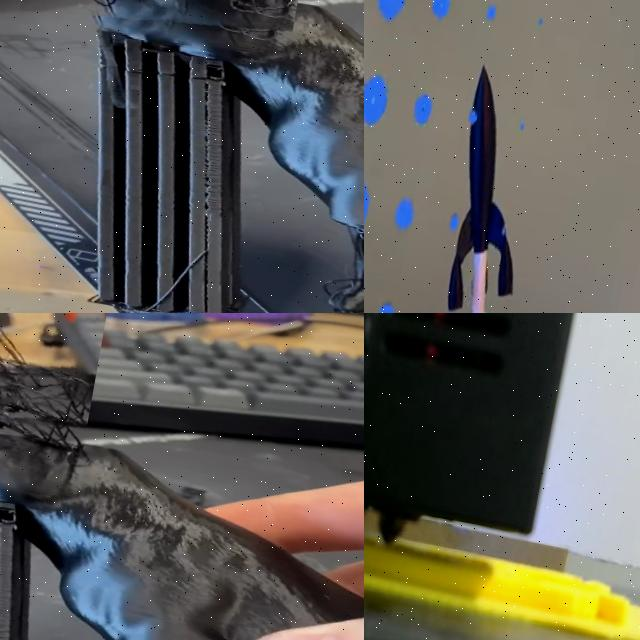spaghetti: (8, 0, 311, 57), (0, 313, 109, 453)
